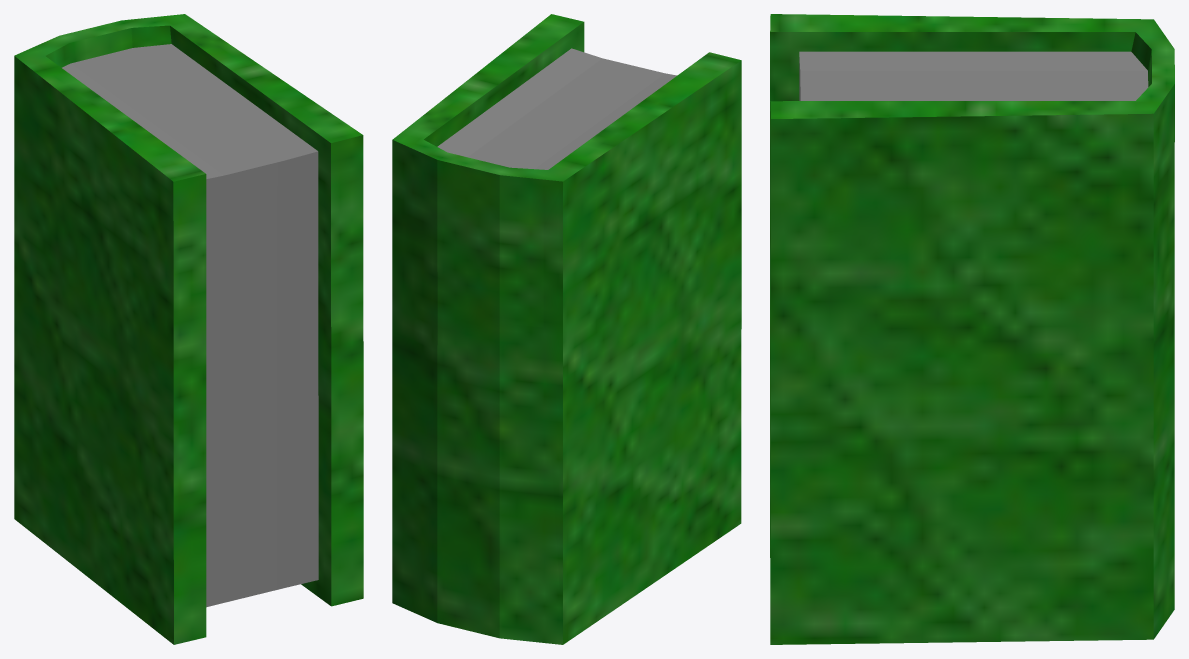
File: Book3.fbx
3 renders of one model, left to right at view 1: azimuth 30°, elevation 25°; view 2: azimuth 150°, elevation 25°; view 3: azimuth 270°, elevation 25°, orthographic. The views are drawn at different scales.
Parts seen in each view (by area): view 1: book01.002; view 2: book01.002; view 3: book01.002.
Part boxes in pixels (x1,y1,x2,y2): book01.002: (14, 14, 363, 644); book01.002: (392, 14, 741, 644); book01.002: (770, 14, 1174, 644).
Bounding box in the file's own units: 0.152 × 0.3538 × 0.2468.
